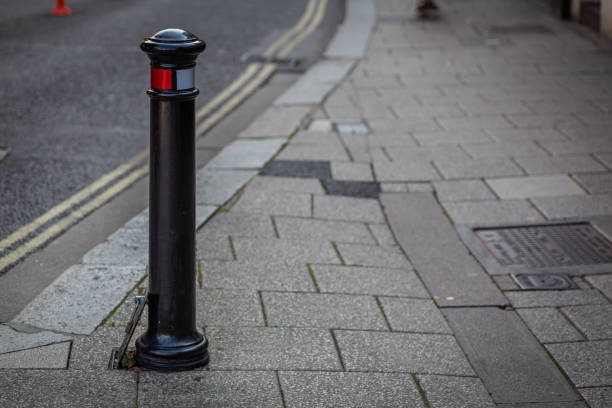bollard: (127, 22, 219, 381)
